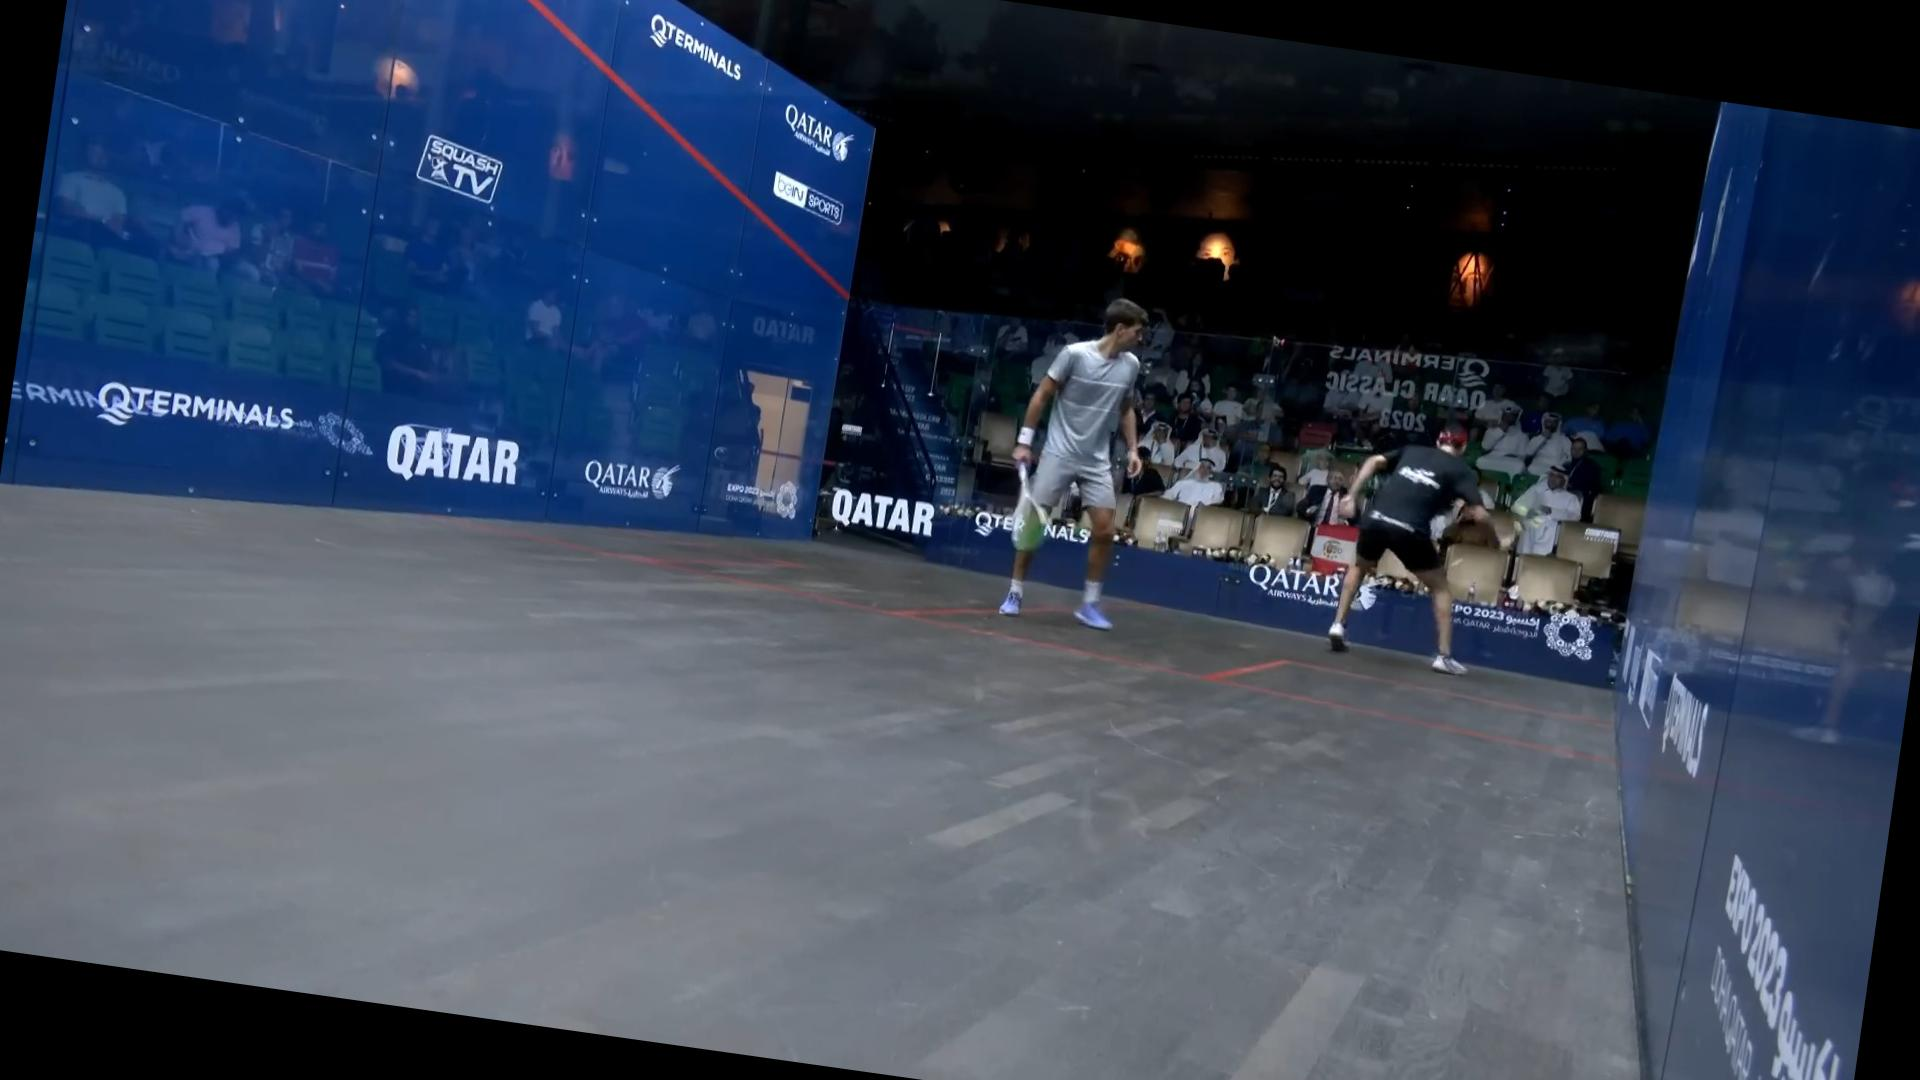Racket: (997, 462, 1062, 560)
